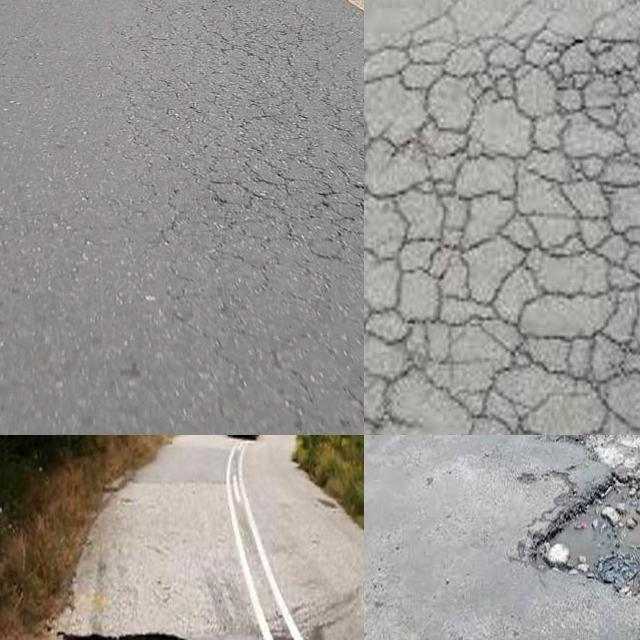Lubang: (533, 480, 640, 588)
Retak Buaya: (364, 0, 640, 435), (147, 0, 364, 305)
